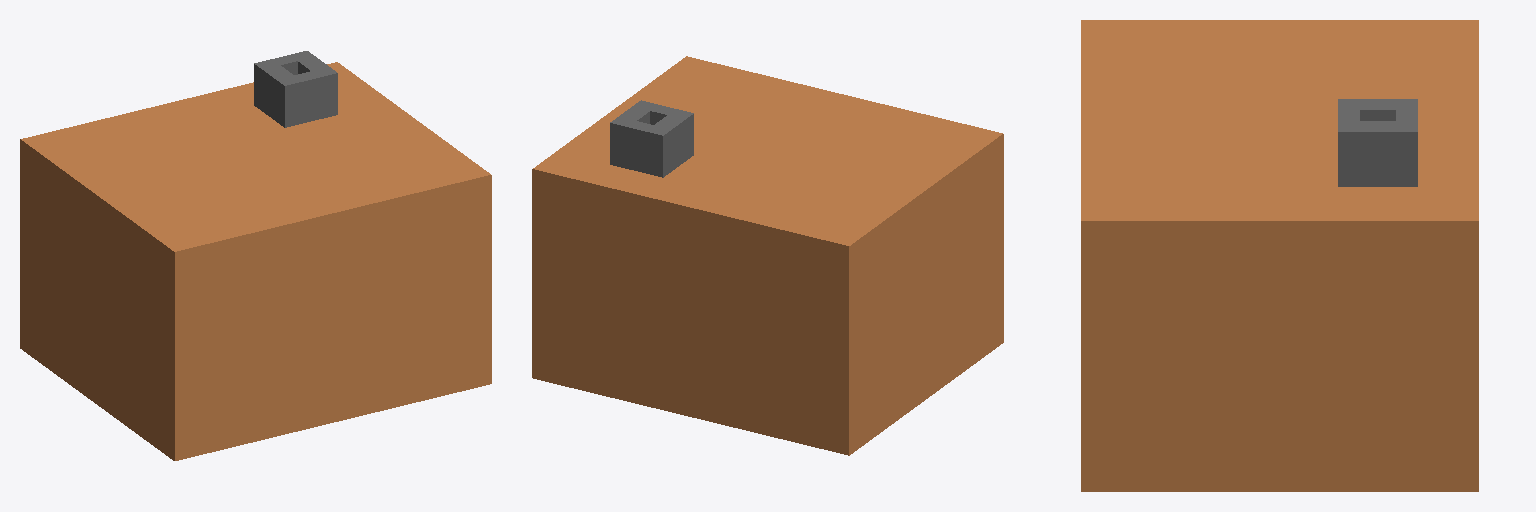
URDF robot description (peg_in_hole_scene_0003_tol04):
<?xml version="1.0"?>
<robot name="peg_in_hole_scene_0003_tol04">
  <material name="wood"><color rgba="0.82 0.56 0.35 1.0"/></material>
  <material name="hole_grey"><color rgba="0.4706 0.4706 0.4706 1.0"/></material>
  <link name="box">
    <visual>
      <origin xyz="0.000000 0.000000 0.000000" rpy="0 0 0"/>
      <geometry><box size="0.475000 0.400000 0.300000"/></geometry>
      <material name="wood"/>
    </visual>
    <collision>
      <origin xyz="0.000000 0.000000 0.000000" rpy="0 0 0"/>
      <geometry><box size="0.475000 0.400000 0.300000"/></geometry>
    </collision>
    <visual>
      <origin xyz="0.116907 0.098437 0.155000" rpy="0 0 0"/>
      <geometry><box size="0.080000 0.080000 0.010000"/></geometry>
      <material name="hole_grey"/>
    </visual>
    <collision>
      <origin xyz="0.116907 0.098437 0.155000" rpy="0 0 0"/>
      <geometry><box size="0.080000 0.080000 0.010000"/></geometry>
    </collision>
    <visual>
      <origin xyz="0.143294 0.098437 0.185000" rpy="0 0 0"/>
      <geometry><box size="0.027227 0.080000 0.050000"/></geometry>
      <material name="hole_grey"/>
    </visual>
    <collision>
      <origin xyz="0.143294 0.098437 0.185000" rpy="0 0 0"/>
      <geometry><box size="0.027227 0.080000 0.050000"/></geometry>
    </collision>
    <visual>
      <origin xyz="0.090521 0.098437 0.185000" rpy="0 0 0"/>
      <geometry><box size="0.027227 0.080000 0.050000"/></geometry>
      <material name="hole_grey"/>
    </visual>
    <collision>
      <origin xyz="0.090521 0.098437 0.185000" rpy="0 0 0"/>
      <geometry><box size="0.027227 0.080000 0.050000"/></geometry>
    </collision>
    <visual>
      <origin xyz="0.116907 0.127323 0.185000" rpy="0 0 0"/>
      <geometry><box size="0.025546 0.022227 0.050000"/></geometry>
      <material name="hole_grey"/>
    </visual>
    <collision>
      <origin xyz="0.116907 0.127323 0.185000" rpy="0 0 0"/>
      <geometry><box size="0.025546 0.022227 0.050000"/></geometry>
    </collision>
    <visual>
      <origin xyz="0.116907 0.069550 0.185000" rpy="0 0 0"/>
      <geometry><box size="0.025546 0.022227 0.050000"/></geometry>
      <material name="hole_grey"/>
    </visual>
    <collision>
      <origin xyz="0.116907 0.069550 0.185000" rpy="0 0 0"/>
      <geometry><box size="0.025546 0.022227 0.050000"/></geometry>
    </collision>
    <inertial>
      <mass value="500"/>
      <friction value="1.0"/>
      <inertia ixx="1000.0" ixy="0.0" ixz="0.0" iyy="1000.0" iyz="0.0" izz="1000.0"/>
    </inertial>
  </link>
</robot>

--- Facts derived from the render (not from the file) ---
Views: 3 orthographic renders of the robot side by side, from view 1: azimuth 30°, elevation 25°; view 2: azimuth 150°, elevation 25°; view 3: azimuth 270°, elevation 25°.
Robot: peg_in_hole_scene_0003_tol04 — 1 links, 0 joints (none); root link box; default pose: all joints at 0.
Links seen in each view (by area): view 1: box; view 2: box; view 3: box.
Boxes of the visible links, x1,y1,x2,y2 form: box: (20,51,491,460); box: (532,56,1003,455); box: (1081,20,1478,491).
Bounding box of the posed robot: 0.475 × 0.4 × 0.36 m (x, y, z).
Geometry: primitives only (box / cylinder / sphere), no mesh files.
